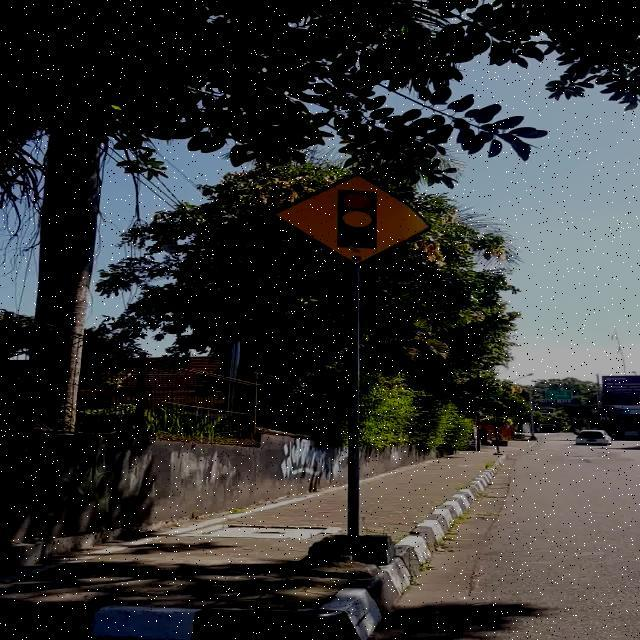Lampu Lalu Lintas: (268, 172, 432, 267)
